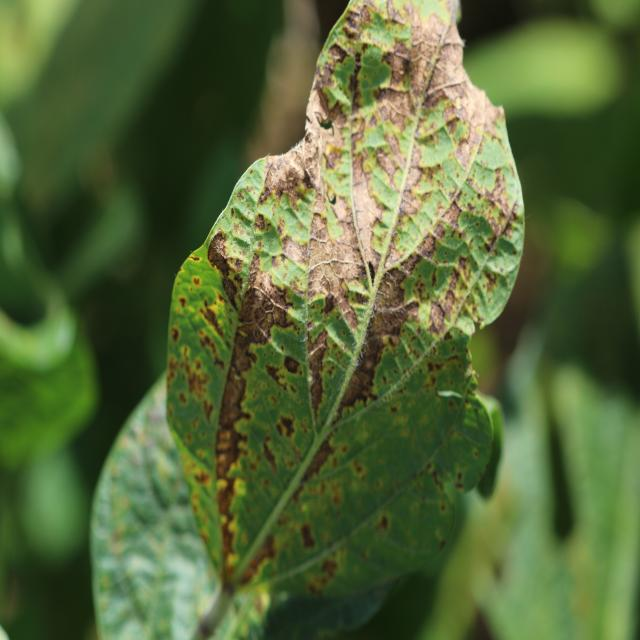Bacterial_Blight: (354, 324, 448, 430), (250, 517, 368, 594), (369, 36, 466, 77), (336, 309, 379, 395), (320, 275, 359, 331), (182, 304, 219, 354), (254, 284, 294, 323), (358, 240, 381, 304), (493, 193, 520, 244), (301, 129, 324, 182), (308, 334, 334, 380), (376, 92, 415, 121), (383, 240, 416, 274), (308, 256, 355, 279), (372, 293, 413, 319), (424, 78, 468, 100), (307, 338, 326, 359), (253, 320, 271, 342), (381, 277, 398, 296), (312, 110, 326, 127), (263, 303, 275, 318), (307, 370, 316, 387), (522, 211, 533, 223), (457, 38, 468, 49), (232, 371, 242, 381)
Soybean: (95, 0, 526, 640)
